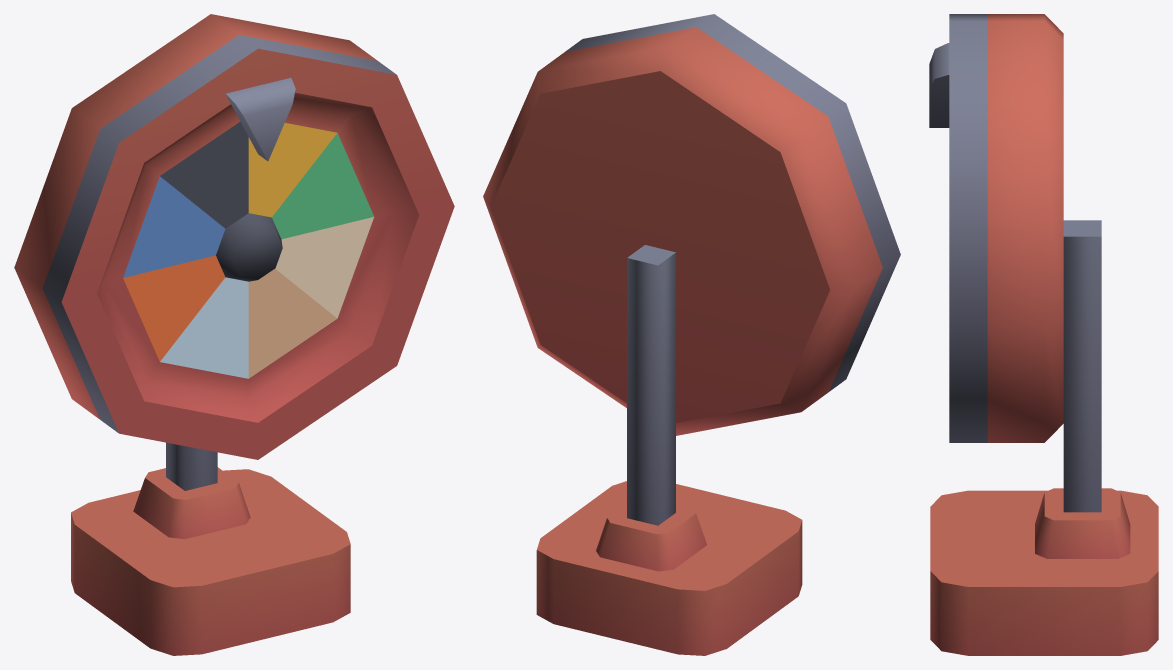
The model's file is prize-wheel.obj.
3 renders of one model, left to right at view 1: azimuth 30°, elevation 25°; view 2: azimuth 150°, elevation 25°; view 3: azimuth 270°, elevation 25°, orthographic. The views are drawn at different scales.
Visible parts, largest first — view 1: rotate-z, prize-wheel; view 2: rotate-z, prize-wheel; view 3: prize-wheel, rotate-z.
Boxes of the visible parts, bbox=[...] form: rotate-z: bbox=[14, 14, 454, 459]; prize-wheel: bbox=[71, 77, 350, 655]; rotate-z: bbox=[483, 14, 900, 435]; prize-wheel: bbox=[536, 245, 802, 655]; prize-wheel: bbox=[929, 43, 1158, 655]; rotate-z: bbox=[949, 14, 1063, 442].
Size of the model in its own units: 0.6 by 0.85 by 0.3015.
